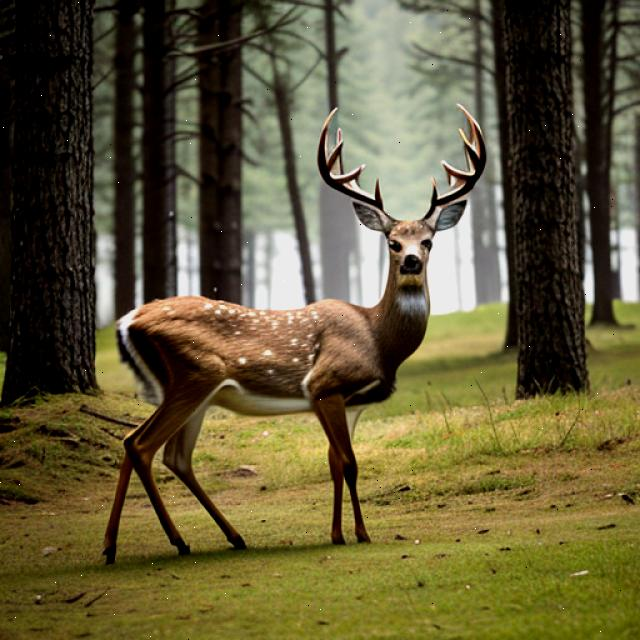deer: (73, 86, 529, 596)
